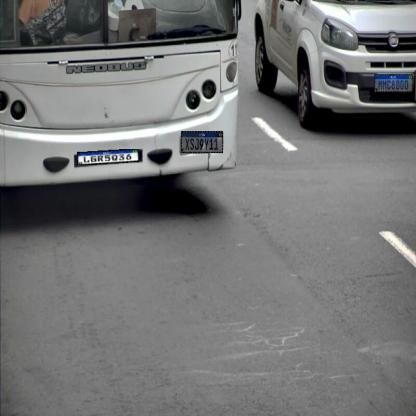PlacaM: (77, 149, 139, 165), (181, 131, 223, 153), (374, 74, 413, 92)
